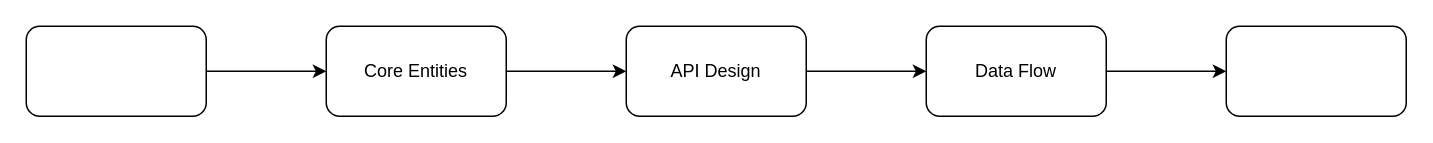
Image size: 1433x143. Some labels were removed from this diagram. Here are the shapes that lost their labels. From the top down, the box of each, then its label:
(25, 25, 206, 116): Gather Requirements
(1225, 25, 1406, 116): High Level Design
